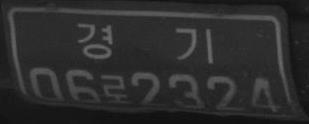0: (27, 65, 66, 104)
2: (206, 74, 246, 111), (130, 69, 166, 107)
3: (167, 71, 206, 110)
4: (249, 75, 283, 113)
6: (66, 67, 102, 105)
경기_D: (75, 21, 215, 65)
로: (101, 72, 130, 105)
